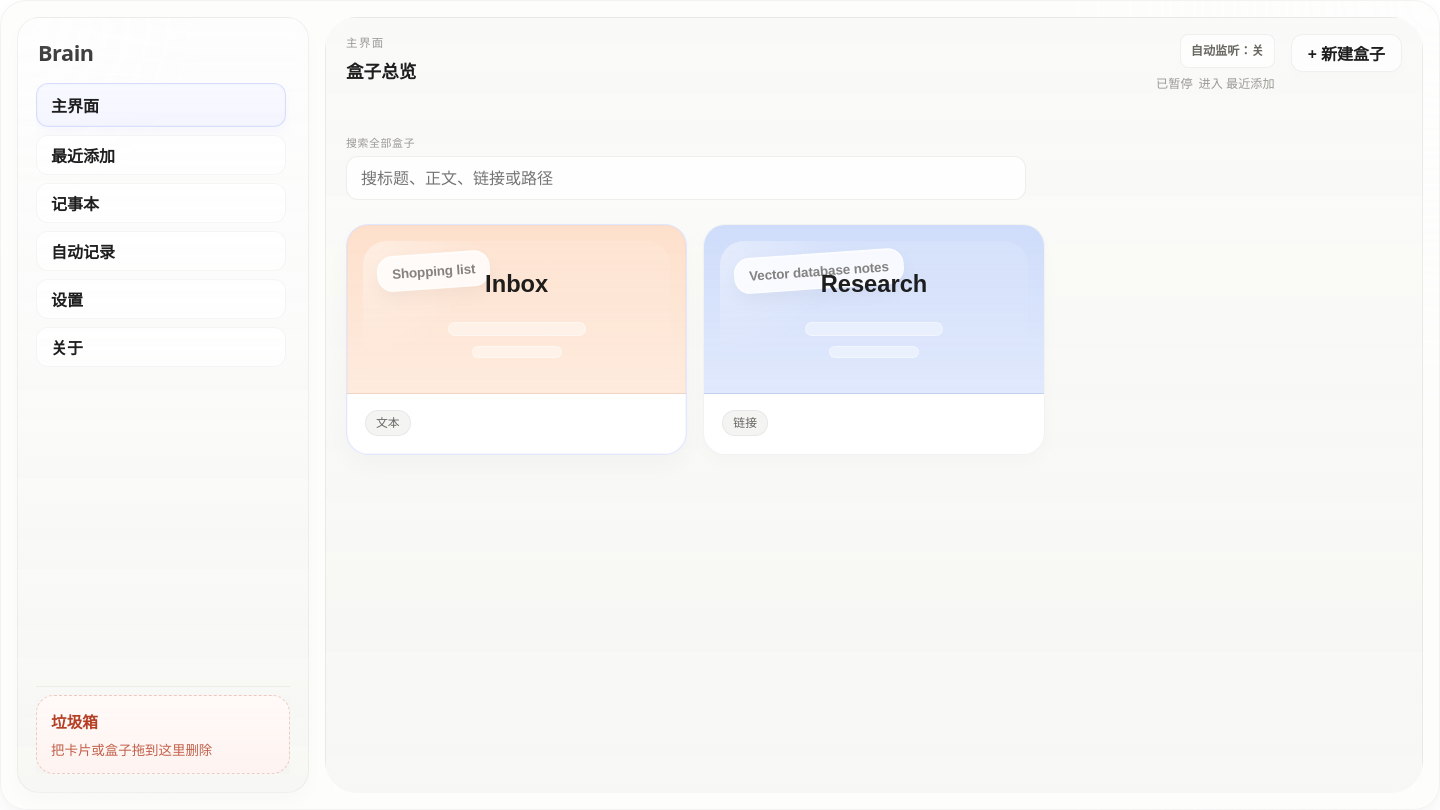
Test: AppShell › searches across boxes from the overview and opens the matching box
The width and height of the screenshot is (1440, 810).
Type "vector" into the field named "全局搜索". click: (686, 178)
box: [346,156,1026,200]
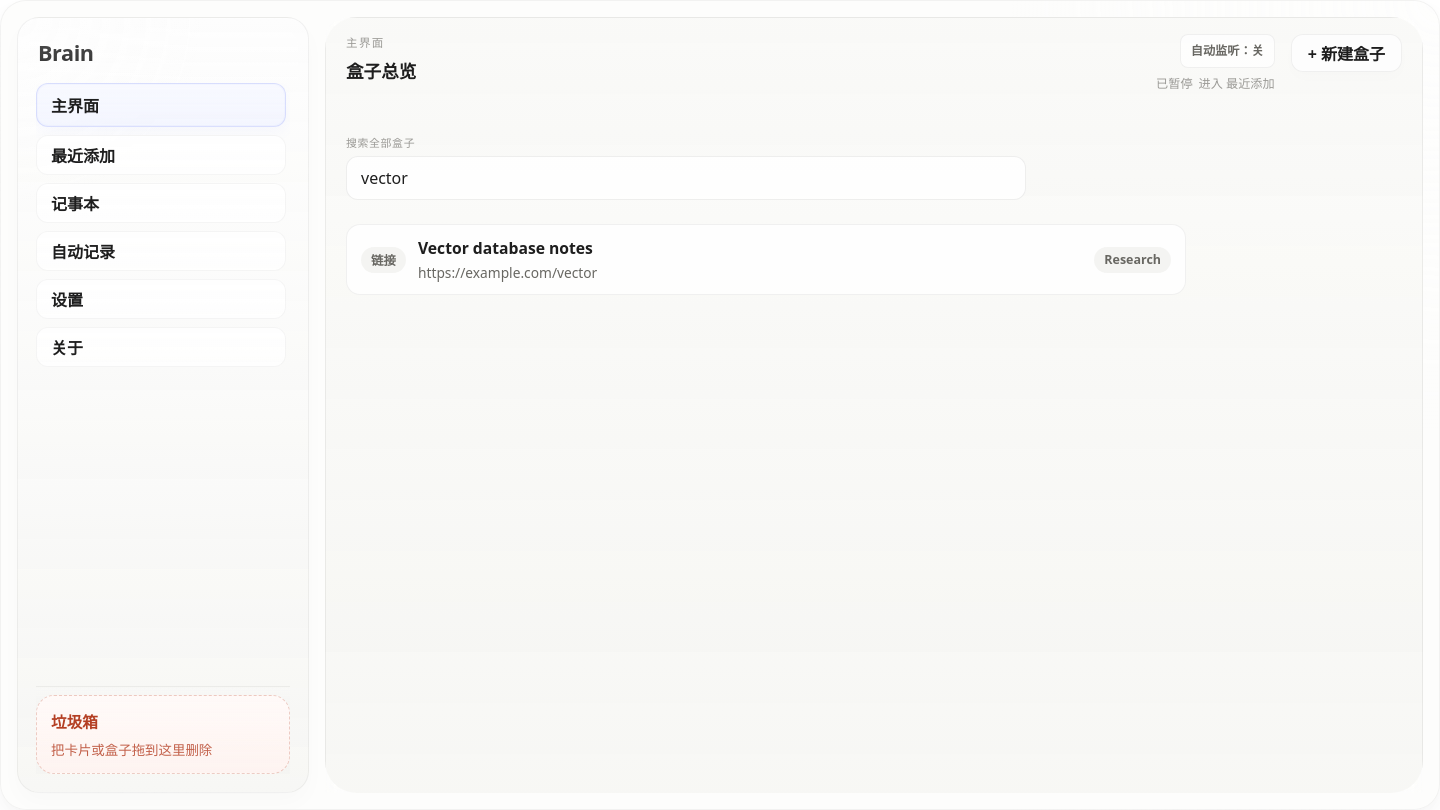
Result: the element named "全局搜索结果" is shown
Result: the button with aria-label "打开搜索结果 Vector database notes，位于 Research" is shown
Result: the button "Shopping list" is gone
Click the button with aria-label "打开搜索结果 Vector database notes，位于 Research". click: (383, 260)
box: [346,224,1186,295]
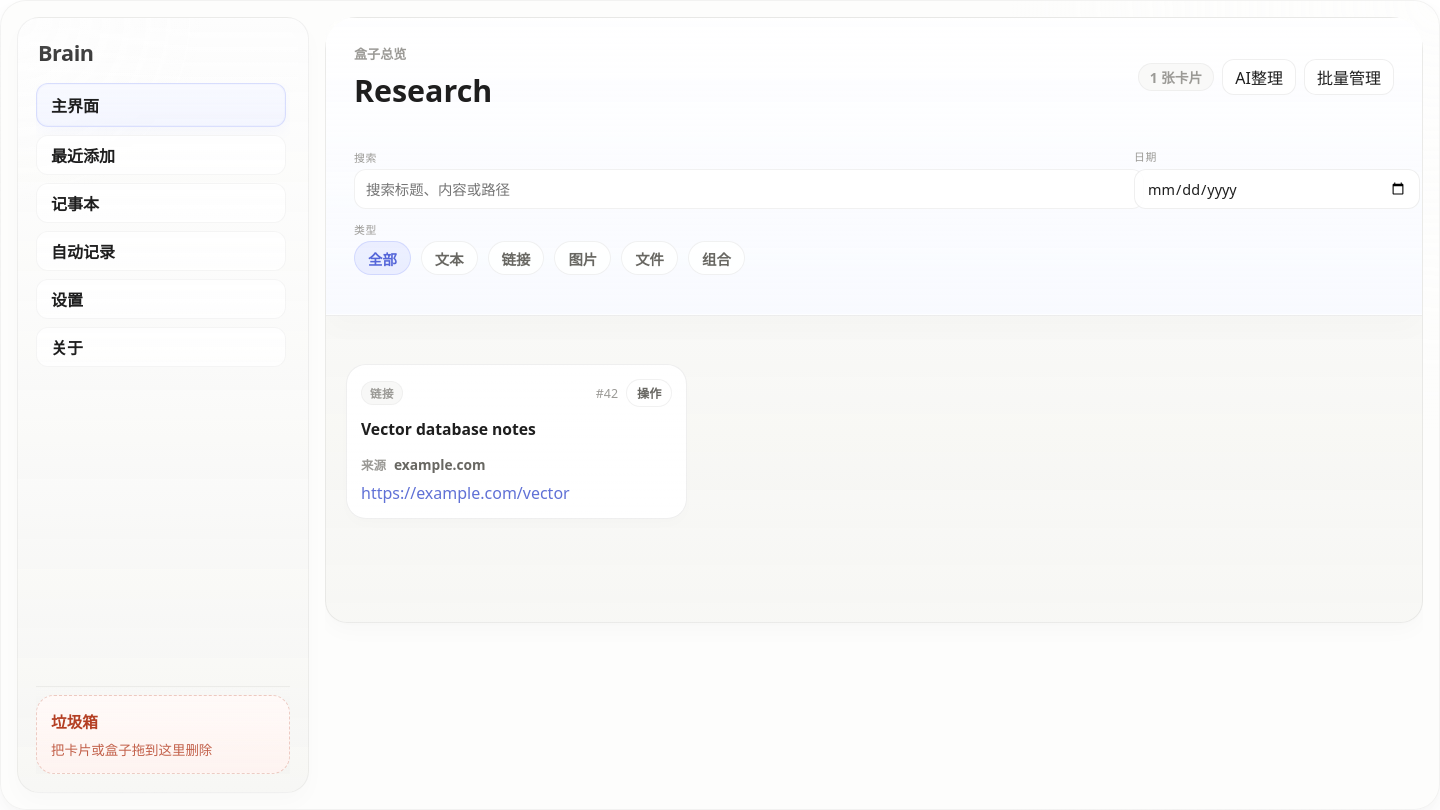
Expected: the button with aria-label "编辑当前盒子名称 Research" is shown, [354,70,492,112]
Result: the element named "卡片 Vector database notes" is shown at [346,364,687,519]
